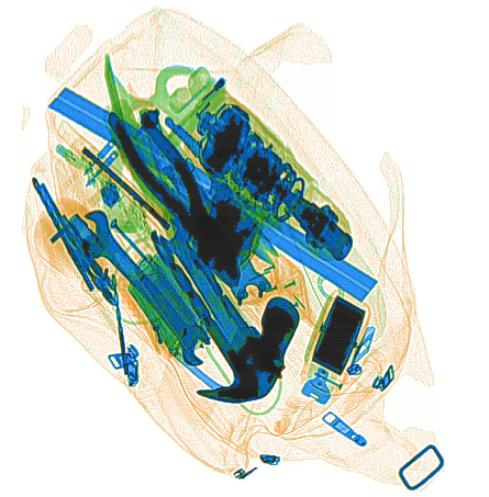battery: (129, 252, 202, 354)
